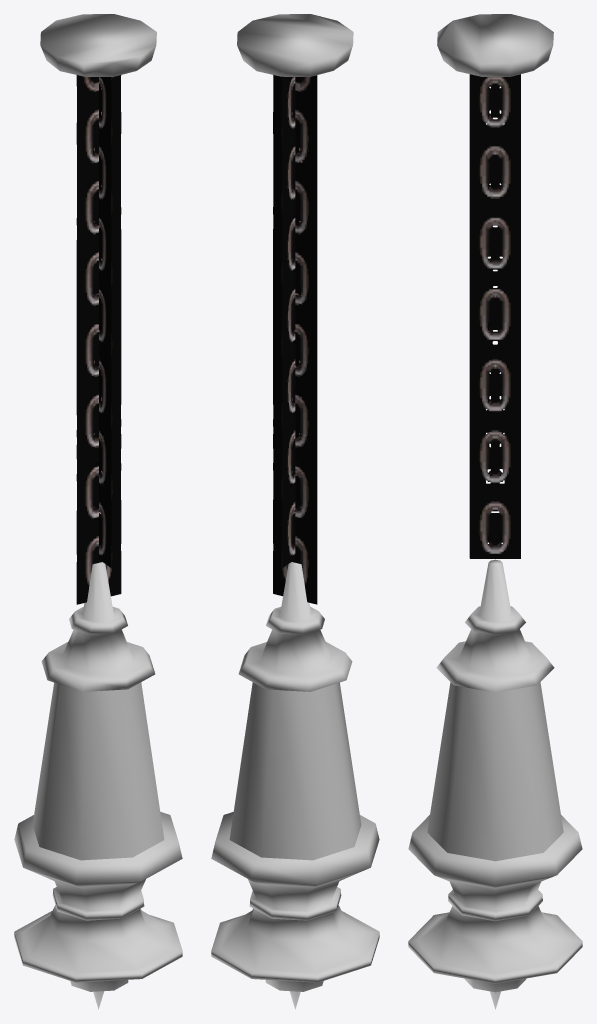
The model's file is hanging_lantern_ceiling_chain.dae.
3 views of the same model, side by side, from view 1: azimuth 30°, elevation 25°; view 2: azimuth 150°, elevation 25°; view 3: azimuth 270°, elevation 25° (orthographic).
Parts seen in each view (by area): view 1: polySurface152_002, polySurface40, polySurface153_001, Cylinder_003; view 2: polySurface152_002, polySurface40, polySurface153_001, Cylinder_003; view 3: polySurface152_002, polySurface40, polySurface153_001, Cylinder_003.
Boxes of the visible parts, x1,y1,x2,y2 form: polySurface152_002: (14,562,182,1009); polySurface40: (76,75,121,604); polySurface153_001: (32,682,164,860); Cylinder_003: (40,14,156,76); polySurface152_002: (211,562,379,1009); polySurface40: (273,75,317,604); polySurface153_001: (229,682,361,860); Cylinder_003: (237,14,353,77); polySurface152_002: (408,559,582,1009); polySurface40: (469,74,520,558); polySurface153_001: (427,682,563,861); Cylinder_003: (437,14,553,76).
Bounding box in the file's own units: 0.3684 × 2.26 × 0.3684.
